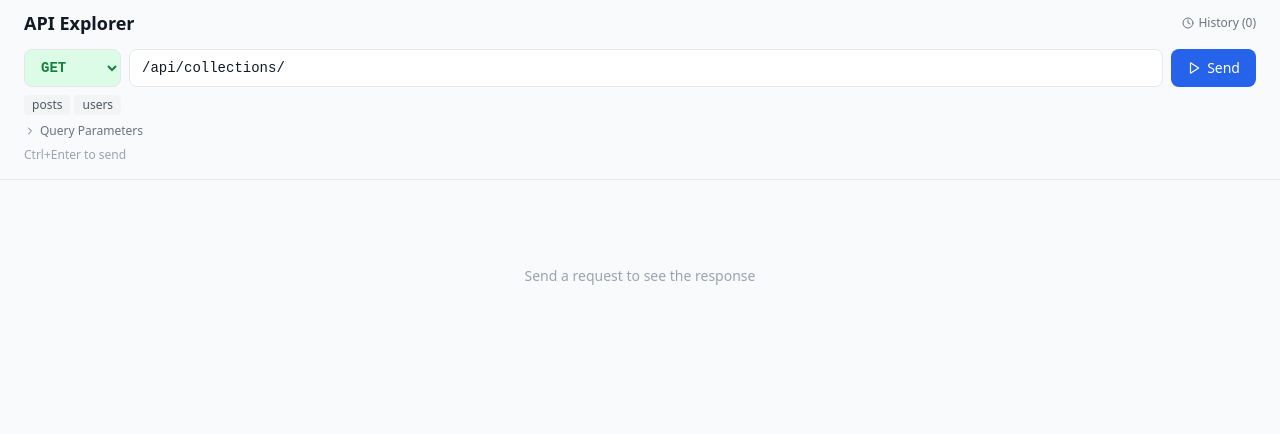
Test: ApiExplorer › shows body editor for POST method
The width and height of the screenshot is (1280, 434).
Select "POST" in the dropdown named "HTTP method": point(72, 68) x1=24 y1=49 x2=121 y2=87
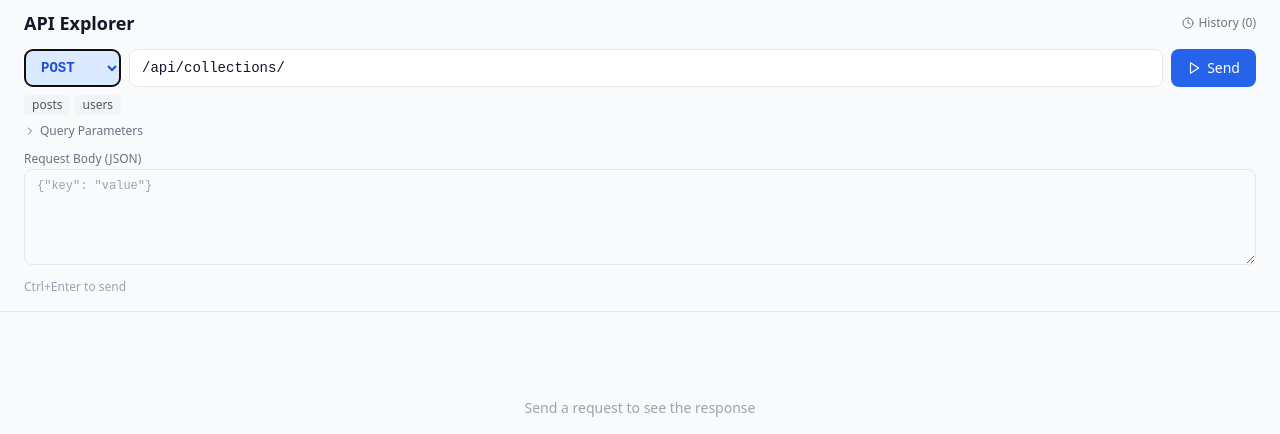
Check: the text box named "Request body" is shown, box x1=24 y1=169 x2=1256 y2=265
